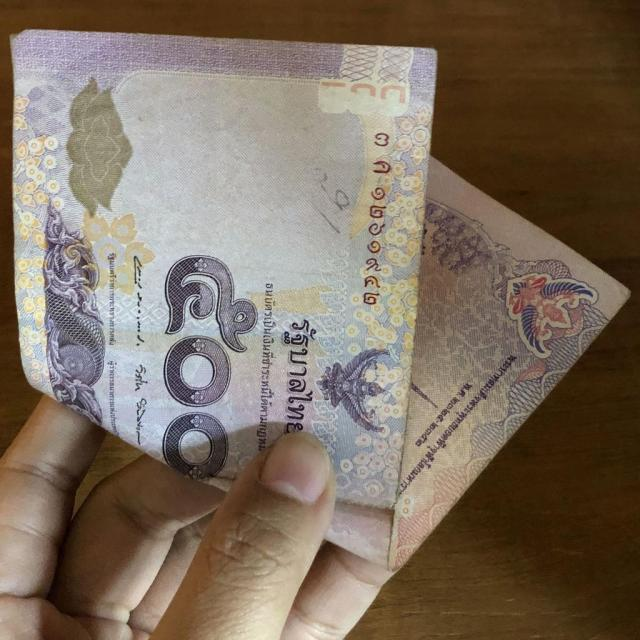THAI500: (12, 31, 629, 579)
